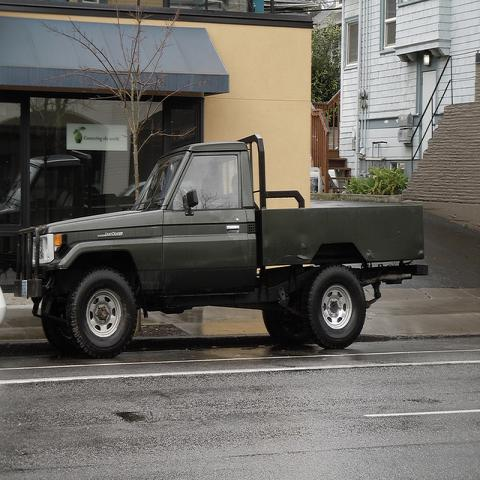truck: (14, 134, 428, 360)
